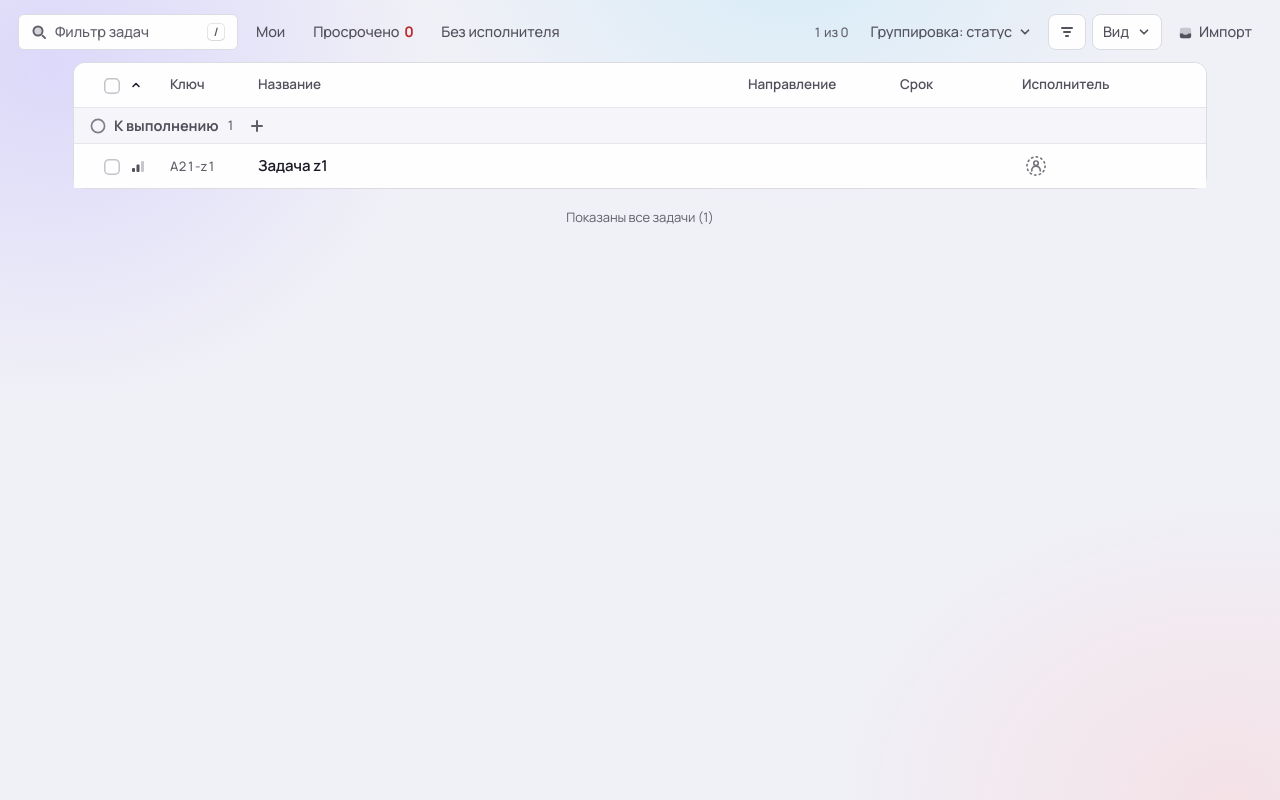
Test case: Список задач — характеризующие тесты (ТЗ 5.12 e, до переписывания в таблицу) › 1e. «Сбросить» очищает фильтры (виден только когда что-то активно) и URL
Click the button named "Фильтры".
click(1067, 32)  # box [1048, 14, 1086, 50]
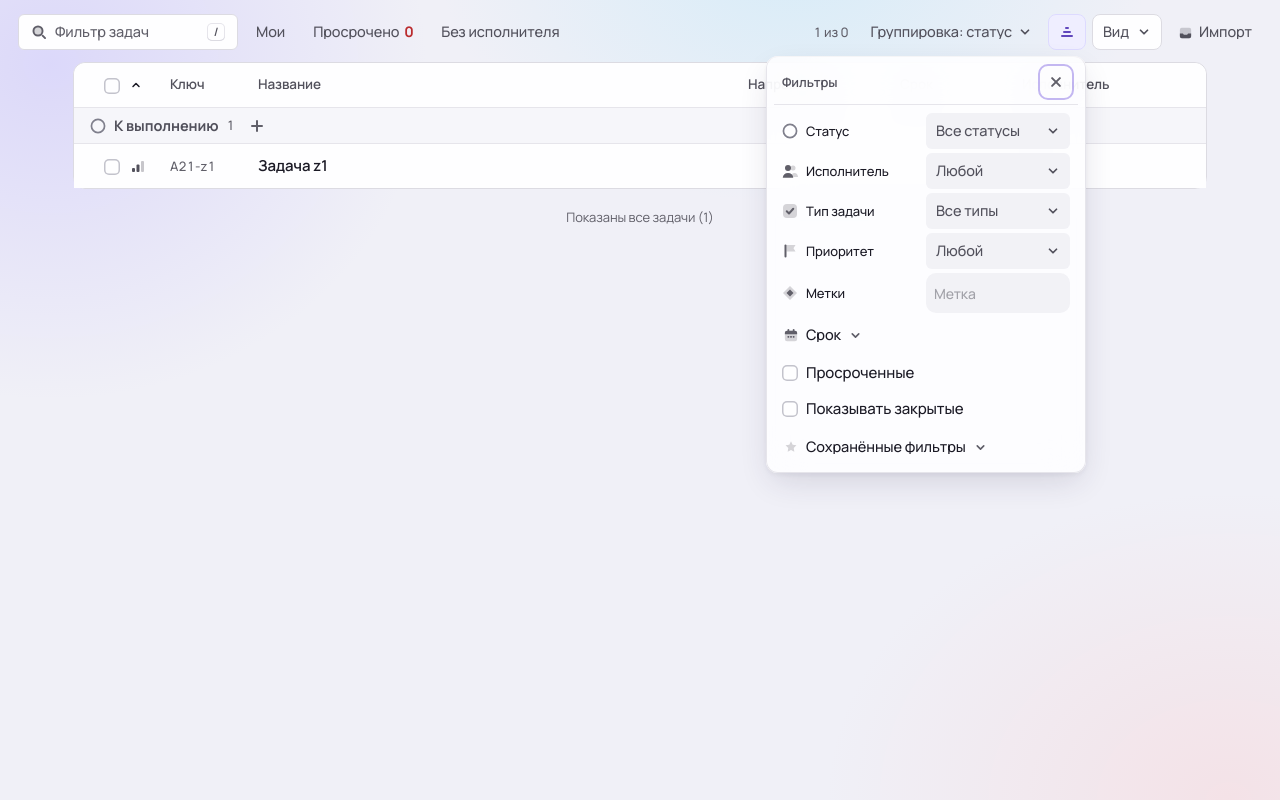
Expected: the button "Сбросить" is not shown
Click the button "Все статусы".
click(998, 131)  # box [926, 113, 1070, 149]
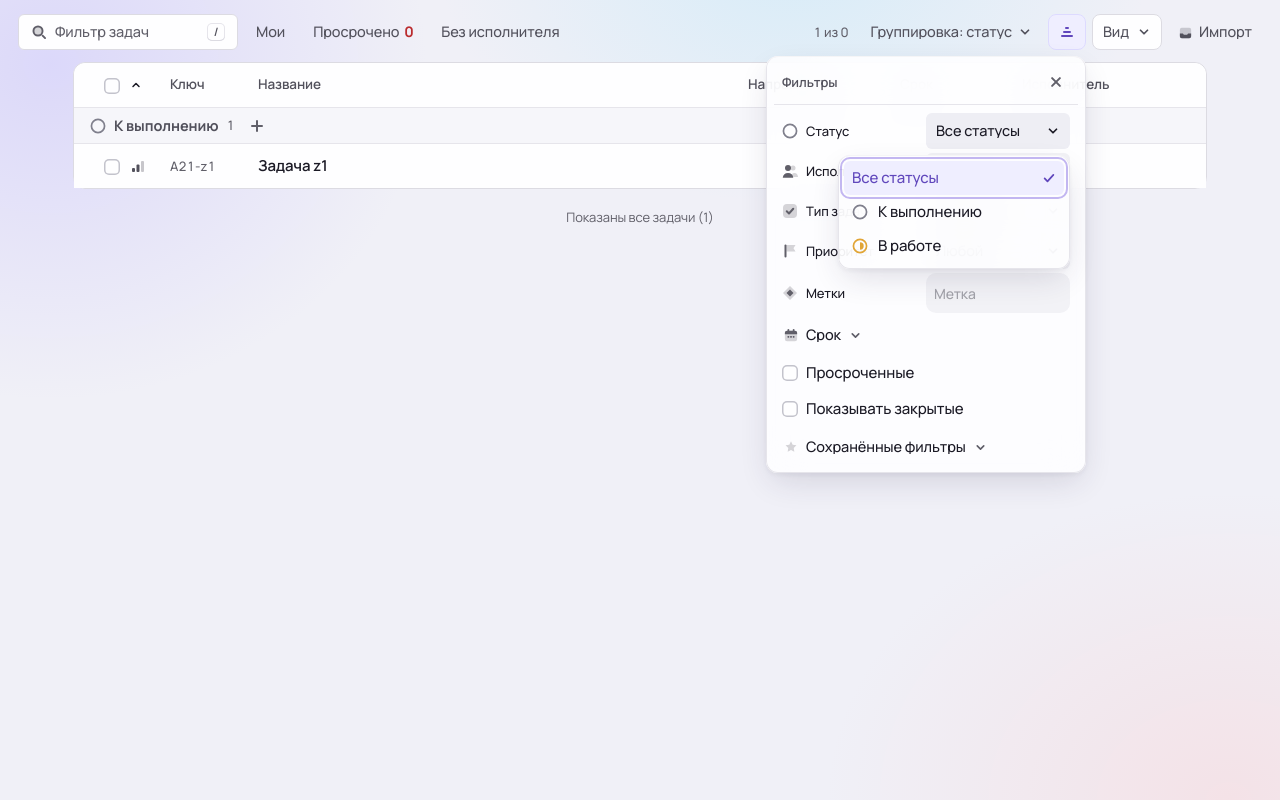
Click the menu item "К выполнению".
click(954, 212)  # box [844, 195, 1064, 229]
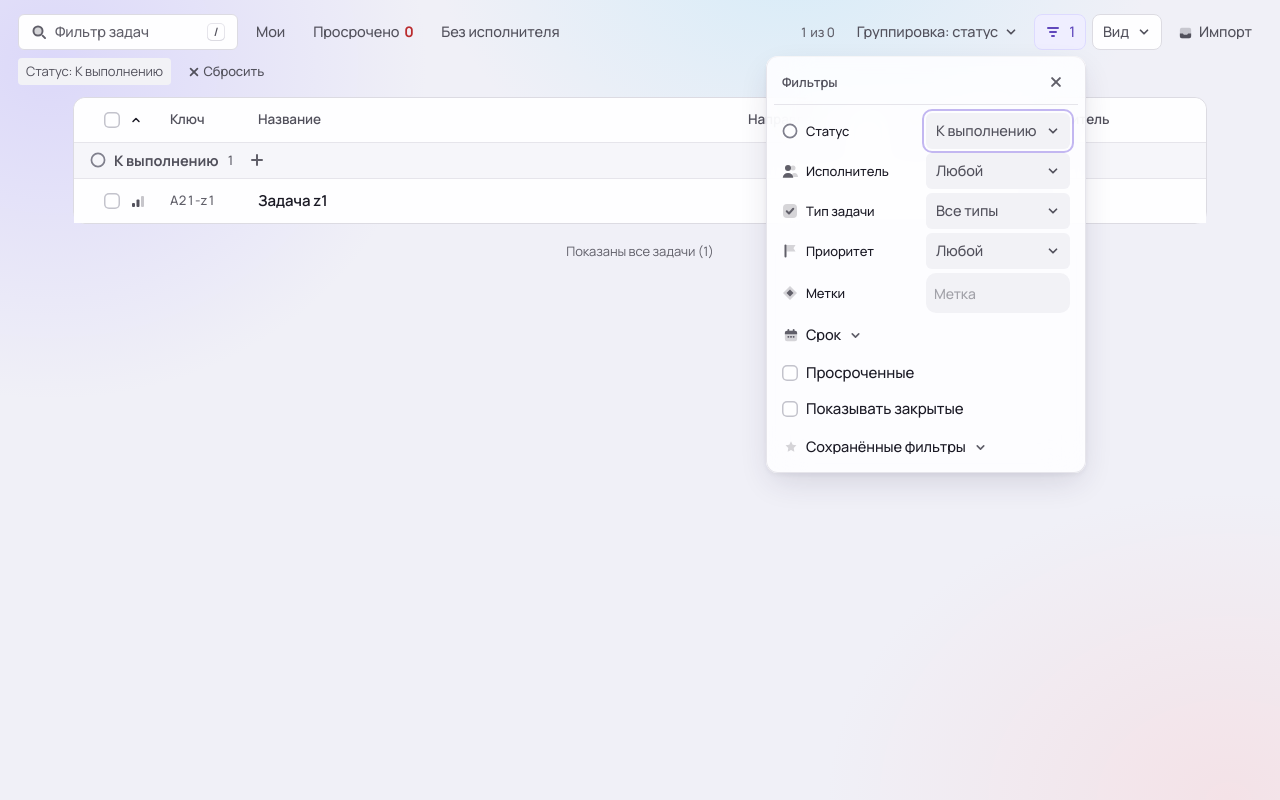
Result: the button "Сбросить" is shown
Click the button "Сбросить".
click(226, 71)  # box [179, 58, 272, 85]
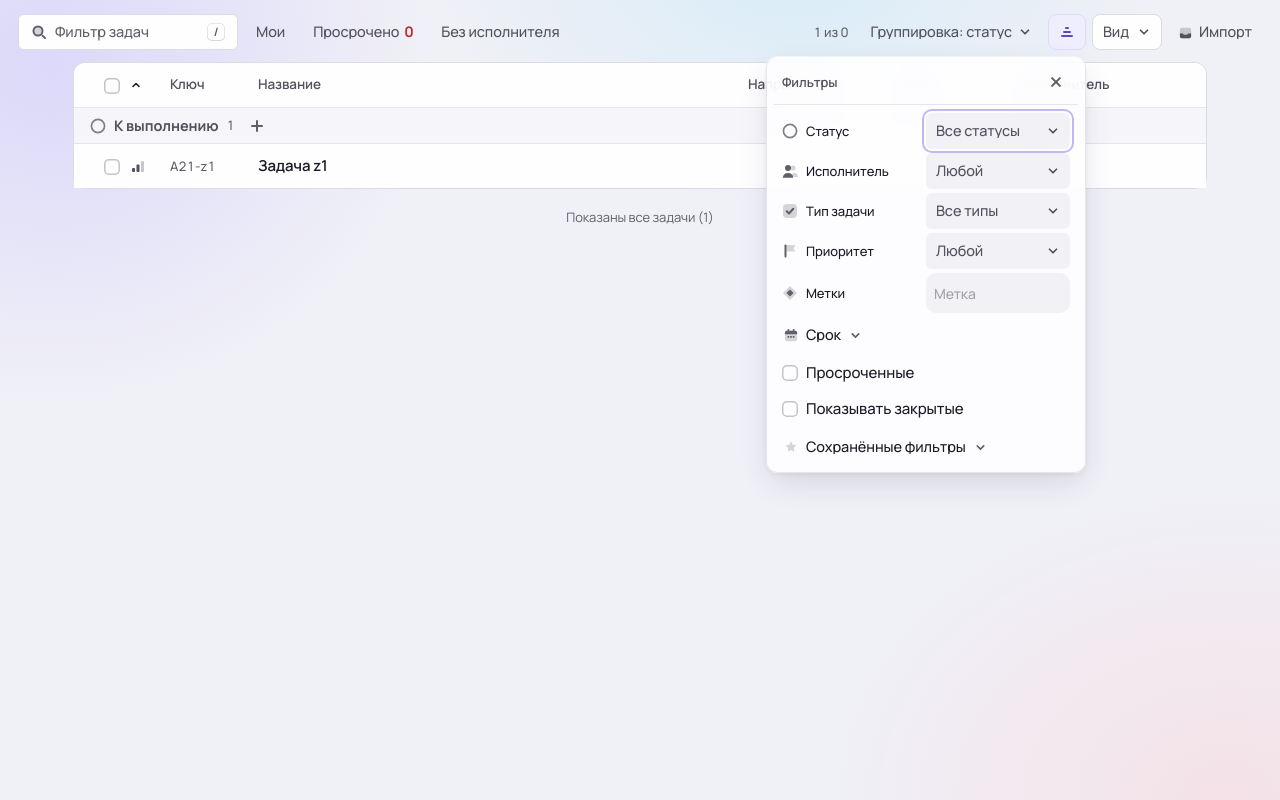
Result: the button "Все статусы" is shown at [926, 113, 1070, 149]
Result: the button "Сбросить" is gone
